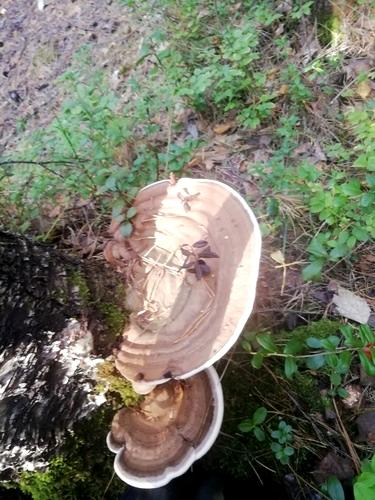Ganoderma - Fruit Body: (118, 179, 251, 381), (110, 383, 226, 487)
